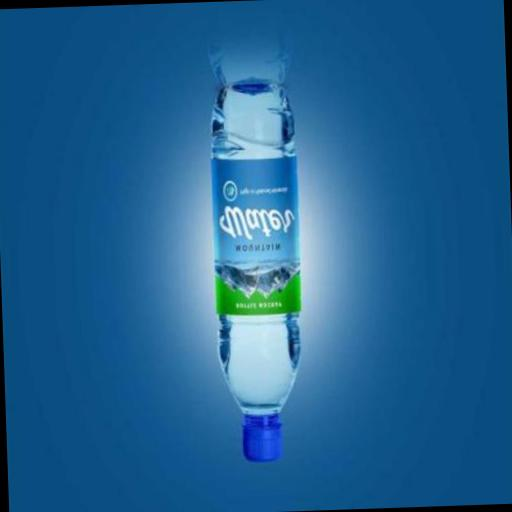Coca: (200, 72, 310, 478)
